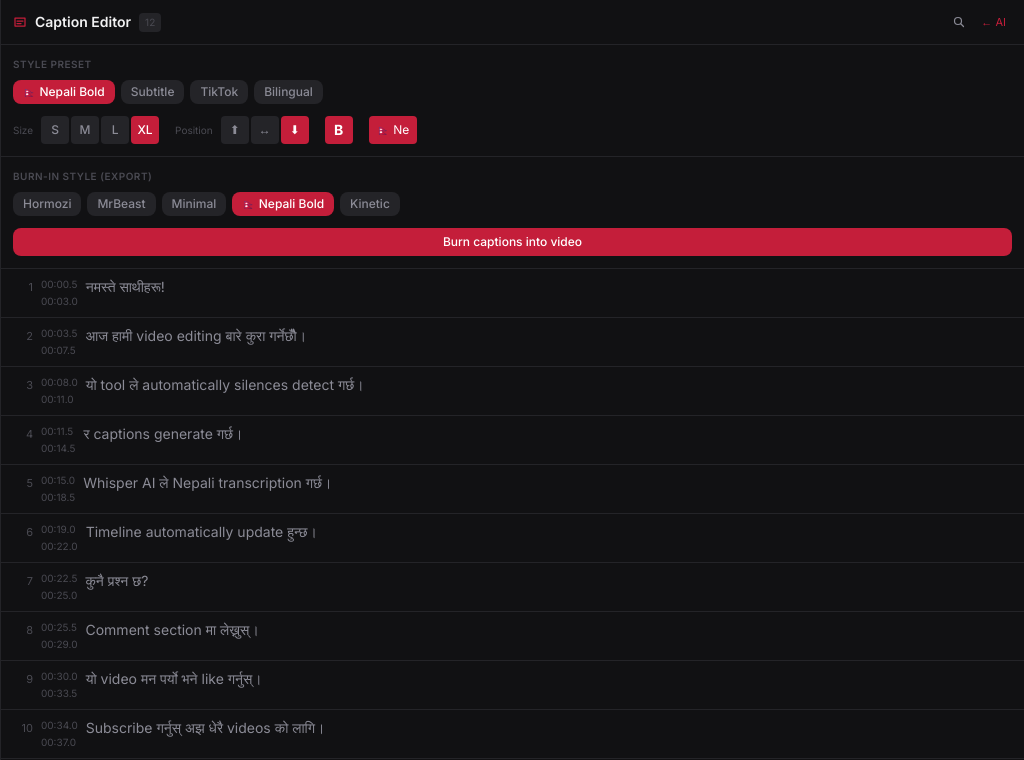
Test: SubtitleEditorPanel — find/replace › clicking search button shows find/replace bar
What coordinates should you click on to do the following:
click the button with test id "open-find-replace"
I would click on:
 (959, 22)
Its box is [947,10,971,34].
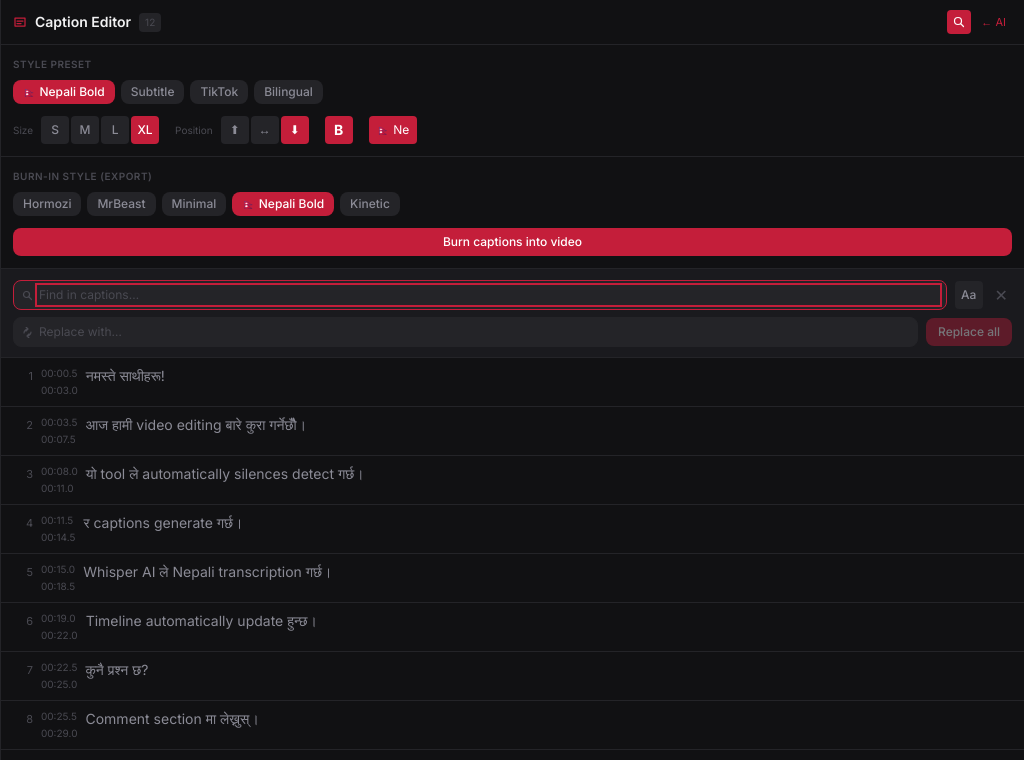
Expected: the element with test id "find-replace-bar" is shown, [1,269,1023,358]
